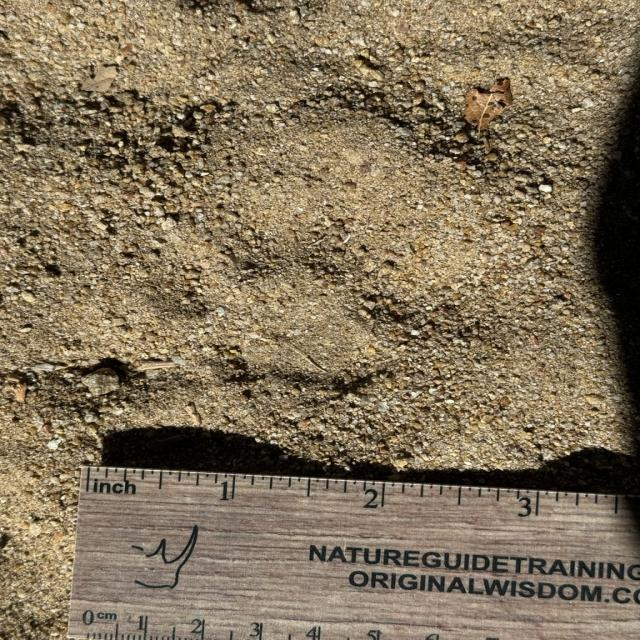felid: (150, 194, 447, 392)
